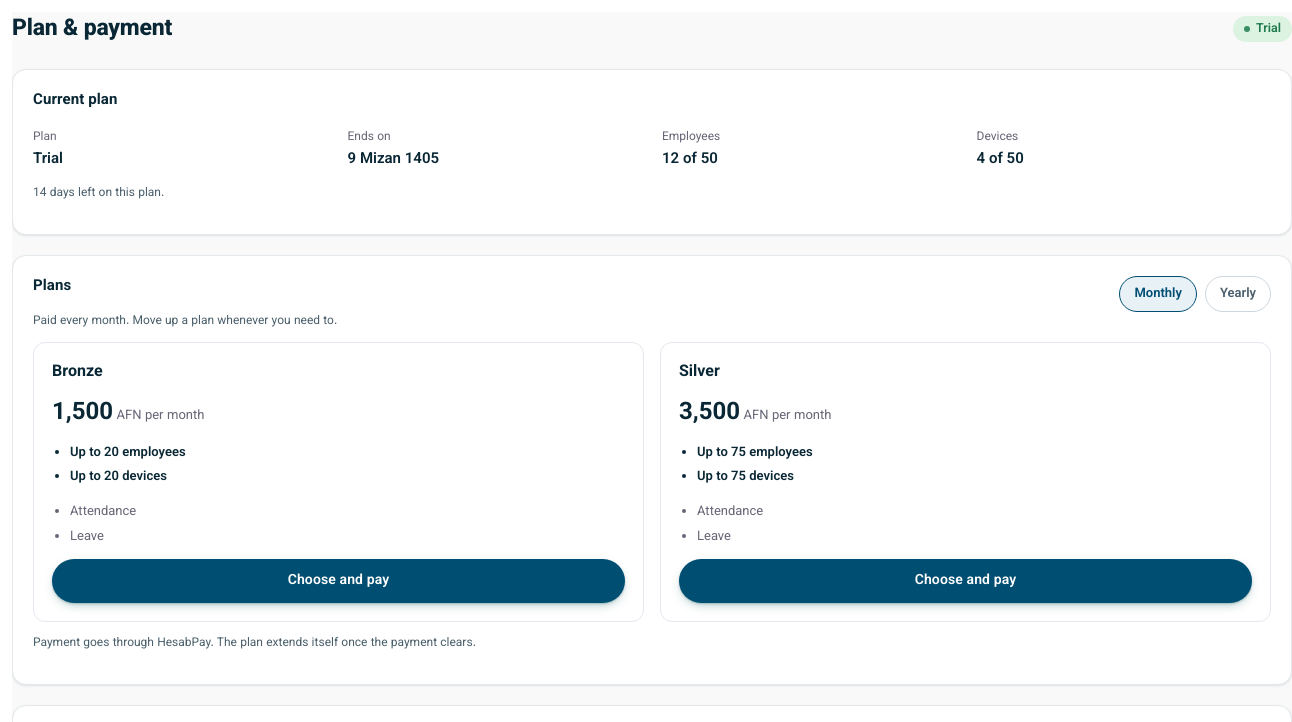
plan & payment › prices a year at ten months when the yearly term is chosen
Check: the text "1,500" is shown, box top-left (52, 394), bottom-right (113, 432)
Click the button "Yearly" at {"x": 1238, "y": 294}, box top-left (1205, 276), bottom-right (1271, 312)
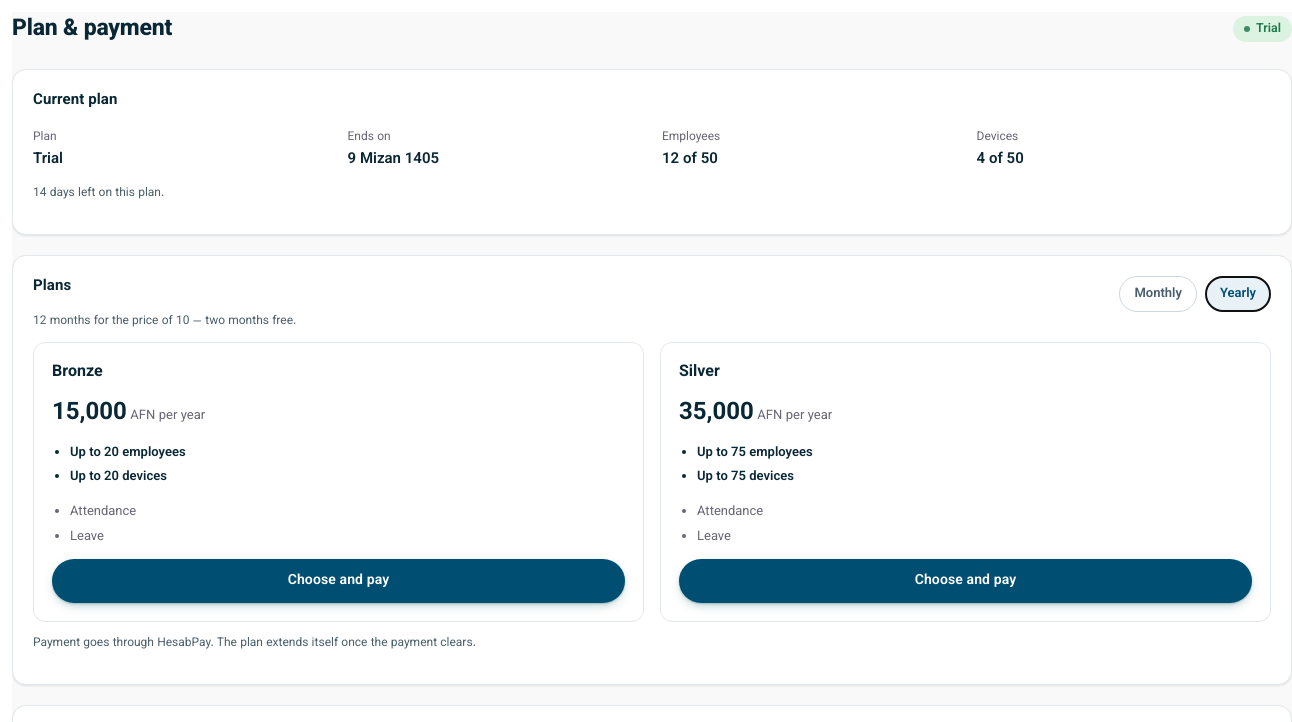
Check: the text "15,000" is shown, box top-left (52, 394), bottom-right (127, 432)
